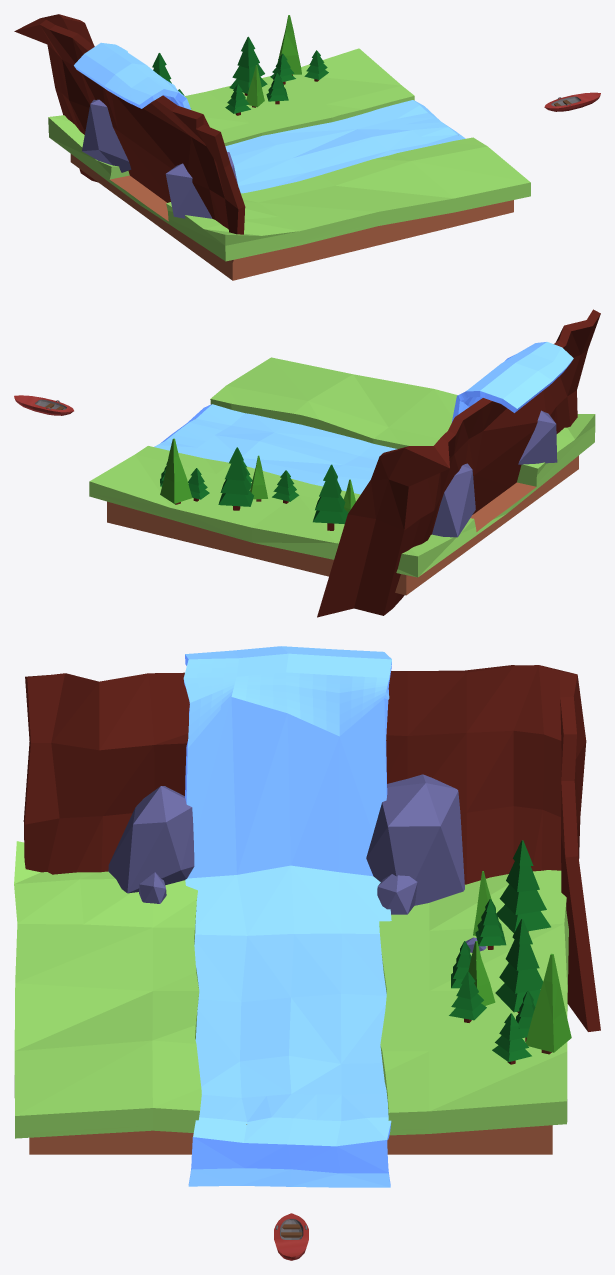
File: waterfallV1.1.glb
The picture shows the model from 3 angles, top to bottom: view 1: azimuth 30°, elevation 25°; view 2: azimuth 150°, elevation 25°; view 3: azimuth 270°, elevation 25°; orthographic projection. The views are drawn at different scales.
Parts seen in each view (by area): view 1: Flor, Cliff, River, Roc 2.001, Roc 2, Arbre 2.008, Arbre 1.002, Boat, Arbre 1.001, Arbre 2, Arbre 2.002, Arbre 2.006 (+1 smaller); view 2: Flor, Cliff, River, Roc 2.001, Roc 2, Arbre 2.007, Arbre 2.008, Arbre 1.002, Boat, Arbre 2, Arbre 1.001, Arbre 2.003; view 3: River, Flor, Cliff, Roc 2.001, Roc 2, Arbre 2.007, Arbre 1.002, Arbre 2.008, Roc, Boat, Arbre 2.006, Arbre 2.002 (+2 smaller).
Part boxes in pixels (x1=…): Flor: x1=48, y1=48, x2=530, y2=280; Cliff: x1=14, y1=14, x2=245, y2=234; River: x1=74, y1=42, x2=465, y2=193; Roc 2.001: x1=82, y1=99, x2=131, y2=172; Roc 2: x1=165, y1=152, x2=238, y2=218; Arbre 2.008: x1=229, y1=36, x2=267, y2=95; Arbre 1.002: x1=277, y1=15, x2=301, y2=75; Boat: x1=544, y1=92, x2=600, y2=111; Arbre 1.001: x1=246, y1=65, x2=264, y2=107; Arbre 2: x1=225, y1=84, x2=250, y2=115; Arbre 2.002: x1=266, y1=73, x2=288, y2=104; Arbre 2.006: x1=304, y1=50, x2=328, y2=81; Flor: x1=89, y1=357, x2=595, y2=595; Cliff: x1=317, y1=309, x2=600, y2=617; River: x1=154, y1=342, x2=573, y2=494; Roc 2.001: x1=432, y1=463, x2=475, y2=537; Roc 2: x1=518, y1=410, x2=557, y2=464; Arbre 2.007: x1=313, y1=464, x2=348, y2=530; Arbre 2.008: x1=218, y1=447, x2=253, y2=510; Arbre 1.002: x1=160, y1=438, x2=191, y2=504; Boat: x1=14, y1=395, x2=73, y2=415; Arbre 2: x1=272, y1=470, x2=299, y2=503; Arbre 1.001: x1=250, y1=455, x2=267, y2=501; Arbre 2.003: x1=188, y1=468, x2=209, y2=501; River: x1=183, y1=646, x2=391, y2=1187; Flor: x1=14, y1=841, x2=568, y2=1154; Cliff: x1=23, y1=665, x2=600, y2=1031; Roc 2.001: x1=366, y1=774, x2=464, y2=905; Roc 2: x1=108, y1=786, x2=194, y2=893; Arbre 2.007: x1=496, y1=840, x2=550, y2=932; Arbre 1.002: x1=525, y1=953, x2=571, y2=1054; Arbre 2.008: x1=495, y1=919, x2=542, y2=1013; Roc: x1=377, y1=874, x2=417, y2=914; Boat: x1=274, y1=1213, x2=308, y2=1260; Arbre 2.006: x1=492, y1=1013, x2=531, y2=1064; Arbre 2.002: x1=449, y1=971, x2=486, y2=1022.
Size of the model in its own units: 13.9 by 5.04 by 8.75.
Materials: 13 (1 with a texture image).
